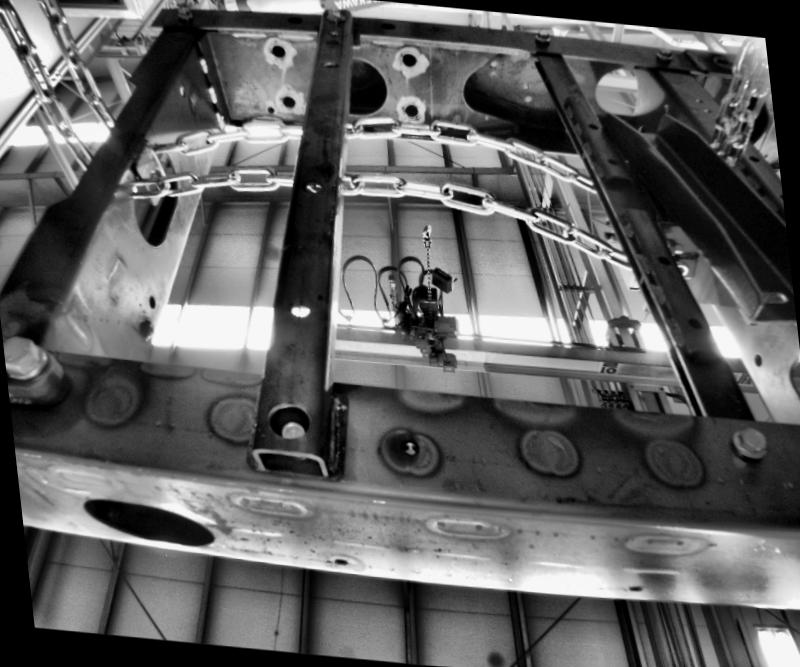bolt: (3, 328, 49, 392), (726, 425, 774, 460), (133, 316, 156, 342), (652, 44, 674, 62), (528, 30, 554, 44), (172, 6, 192, 22), (323, 8, 344, 22)
bracket: (127, 128, 178, 214)
hole: (66, 492, 230, 552), (584, 58, 645, 118), (268, 400, 310, 442), (284, 298, 312, 323), (395, 436, 421, 460), (301, 178, 324, 196), (399, 103, 419, 120), (266, 44, 286, 60), (318, 57, 340, 70), (686, 316, 702, 332), (654, 252, 670, 268), (280, 94, 296, 110), (749, 352, 765, 368), (284, 14, 304, 26), (400, 54, 416, 68), (627, 582, 642, 596), (333, 555, 349, 567), (586, 121, 599, 133), (520, 93, 532, 104), (378, 22, 394, 30), (606, 156, 618, 166), (146, 296, 156, 308), (327, 28, 338, 38), (520, 79, 530, 90), (747, 156, 758, 164), (690, 95, 702, 102), (700, 108, 711, 113), (266, 106, 274, 112)
welding: (195, 56, 210, 76), (205, 84, 217, 104), (212, 111, 224, 130)
